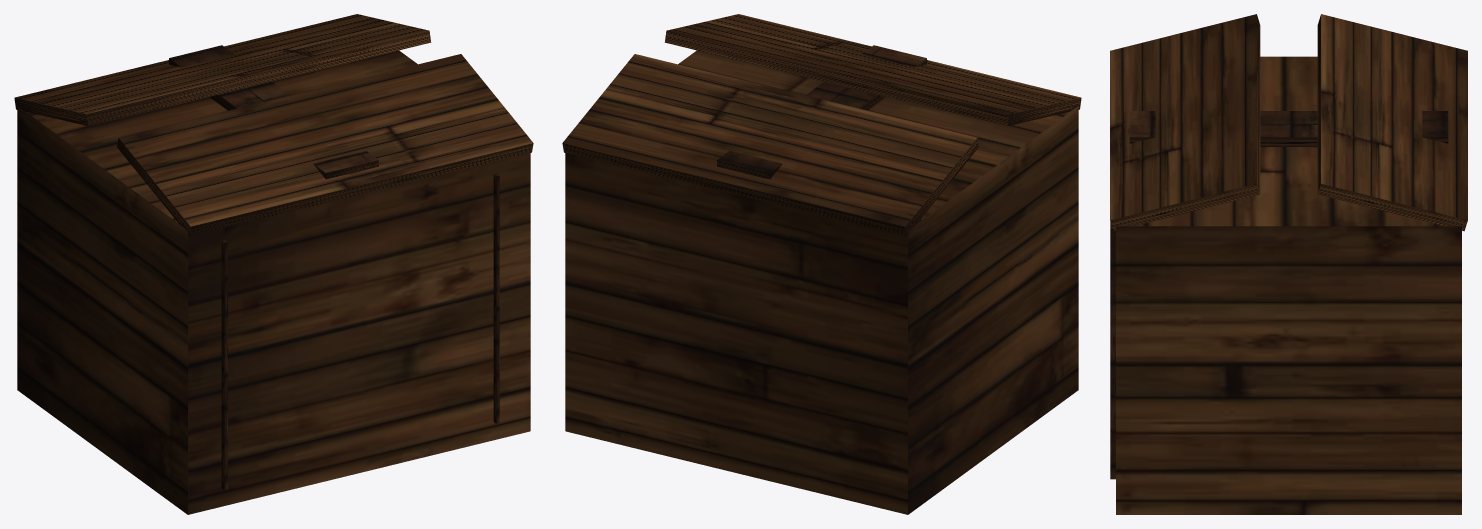
File: loose_box.glb
3 views of the same model, side by side, from view 1: azimuth 30°, elevation 25°; view 2: azimuth 150°, elevation 25°; view 3: azimuth 270°, elevation 25° (orthographic).
Parts seen in each view (by area): view 1: CrushableCarton, _MeshInstance3D_39755, BentFlap, PeelingTape, _MeshInstance3D_39756, CartonFold; view 2: CrushableCarton, BentFlap, _MeshInstance3D_39755, PeelingTape; view 3: CrushableCarton, BentFlap, _MeshInstance3D_39755, PeelingTape, _MeshInstance3D_39756.
Part boxes in pixels (x1=…): CrushableCarton: x1=17, y1=50, x2=530, y2=514; _MeshInstance3D_39755: x1=117, y1=54, x2=533, y2=236; BentFlap: x1=14, y1=14, x2=431, y2=126; PeelingTape: x1=169, y1=45, x2=378, y2=179; _MeshInstance3D_39756: x1=493, y1=173, x2=499, y2=423; CartonFold: x1=221, y1=240, x2=227, y2=489; CrushableCarton: x1=565, y1=50, x2=1078, y2=514; BentFlap: x1=562, y1=54, x2=978, y2=236; _MeshInstance3D_39755: x1=664, y1=14, x2=1081, y2=126; PeelingTape: x1=717, y1=45, x2=926, y2=179; CrushableCarton: x1=1116, y1=56, x2=1461, y2=514; BentFlap: x1=1317, y1=14, x2=1467, y2=231; _MeshInstance3D_39755: x1=1110, y1=14, x2=1260, y2=231; PeelingTape: x1=1129, y1=111, x2=1448, y2=146; _MeshInstance3D_39756: x1=1110, y1=226, x2=1115, y2=479.
Bounding box in the file's own units: 0.58 × 0.528 × 0.5168.
2 materials, 2 textured.
